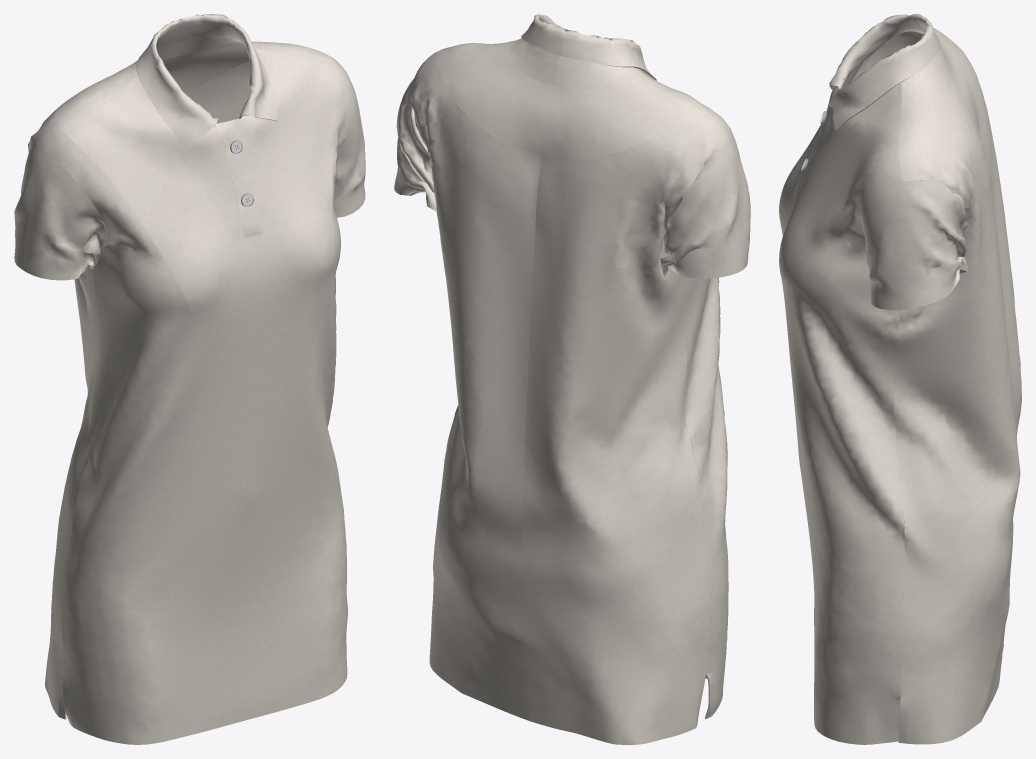
3 views of the same model, side by side, from view 1: azimuth 30°, elevation 25°; view 2: azimuth 150°, elevation 25°; view 3: azimuth 270°, elevation 25° (orthographic).
Visible parts, largest first — view 1: Pattern2D_696624, Pattern2D_711690, Pattern2D_698881, Sleeves (×2), Pattern2D_708682, Pattern2D_745912, Collar (×2), Pattern2D_744327, Pattern2D_744488, Body_Front_Placket, Pattern2D_746204, Pattern2D_736079; view 2: Pattern2D_745912, Pattern2D_744488, Pattern2D_696624, Sleeves (×2), Pattern2D_746204, Pattern2D_744327, Collar (×2), Pattern2D_738109, Pattern2D_736079; view 3: Pattern2D_744488, Pattern2D_698881, Sleeves (×2), Pattern2D_711690, Collar (×2), Pattern2D_744327, Pattern2D_745912, Pattern2D_708682, Pattern2D_746204, Pattern2D_736079, Body_Front_Placket.
Part boxes in pixels (left/top/right/bottom): Pattern2D_696624: left=45, top=129, right=247, bottom=744; Pattern2D_711690: left=60, top=51, right=340, bottom=478; Pattern2D_698881: left=240, top=61, right=354, bottom=721; Sleeves (×2): left=14, top=81, right=365, bottom=280; Pattern2D_708682: left=122, top=48, right=280, bottom=303; Pattern2D_745912: left=28, top=109, right=101, bottom=719; Collar (×2): left=136, top=14, right=278, bottom=148; Pattern2D_744327: left=165, top=41, right=332, bottom=93; Pattern2D_744488: left=186, top=53, right=341, bottom=123; Body_Front_Placket: left=217, top=119, right=264, bottom=238; Pattern2D_746204: left=55, top=59, right=168, bottom=128; Pattern2D_736079: left=169, top=38, right=268, bottom=58; Pattern2D_745912: left=521, top=119, right=729, bottom=744; Pattern2D_744488: left=410, top=51, right=540, bottom=720; Pattern2D_696624: left=685, top=117, right=735, bottom=718; Sleeves (×2): left=394, top=72, right=750, bottom=278; Pattern2D_746204: left=541, top=79, right=716, bottom=159; Pattern2D_744327: left=437, top=43, right=553, bottom=154; Collar (×2): left=519, top=14, right=656, bottom=80; Pattern2D_738109: left=554, top=64, right=651, bottom=89; Pattern2D_736079: left=500, top=38, right=557, bottom=85; Pattern2D_744488: left=894, top=144, right=1020, bottom=744; Pattern2D_698881: left=787, top=157, right=904, bottom=744; Sleeves (×2): left=860, top=37, right=968, bottom=309; Pattern2D_711690: left=779, top=62, right=901, bottom=338; Collar (×2): left=829, top=14, right=942, bottom=130; Pattern2D_744327: left=898, top=72, right=982, bottom=156; Pattern2D_745912: left=900, top=31, right=1021, bottom=684; Pattern2D_708682: left=785, top=32, right=902, bottom=227; Pattern2D_746204: left=933, top=27, right=982, bottom=127; Pattern2D_736079: left=901, top=54, right=951, bottom=102; Body_Front_Placket: left=794, top=94, right=834, bottom=202.
Bounding box in the file's own units: 43.54 × 81.6 × 26.86.
